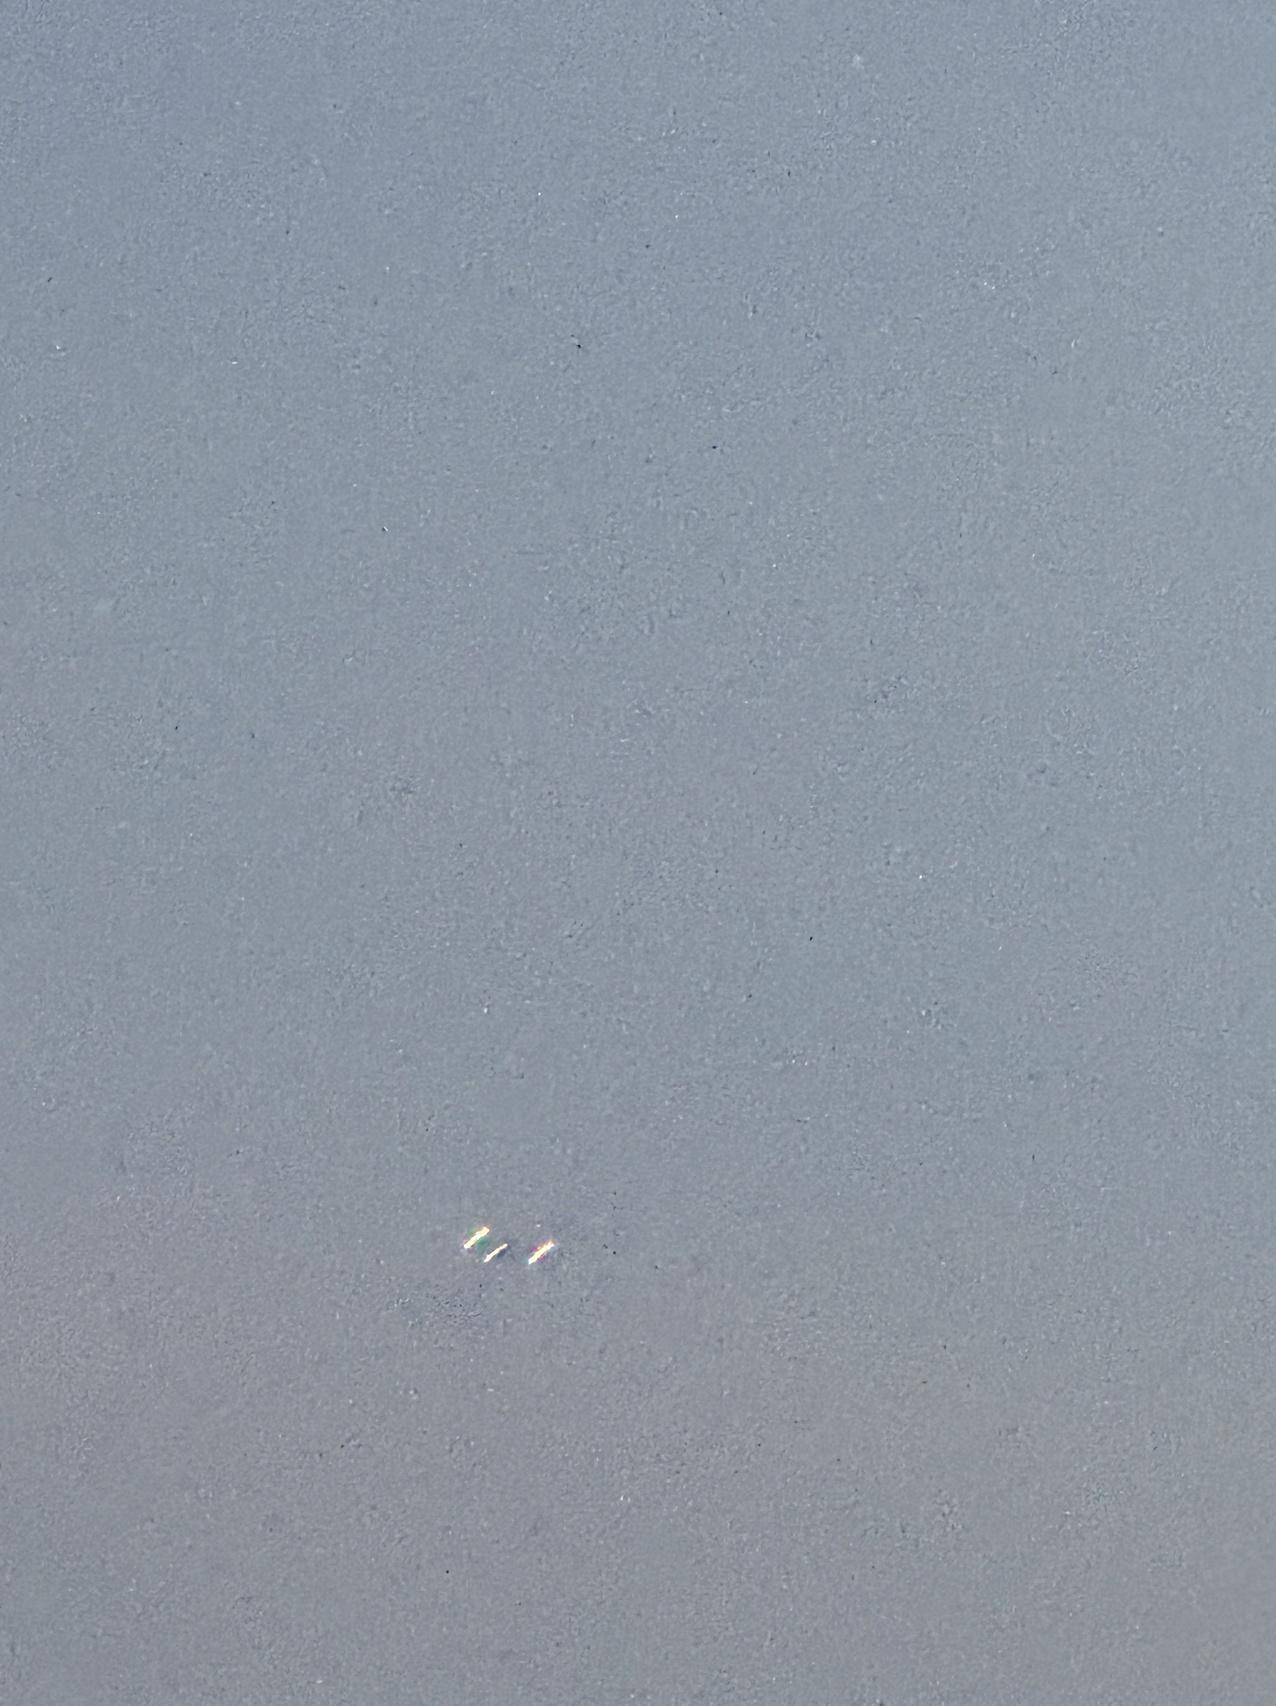Plane: (432, 1207, 594, 1283)
